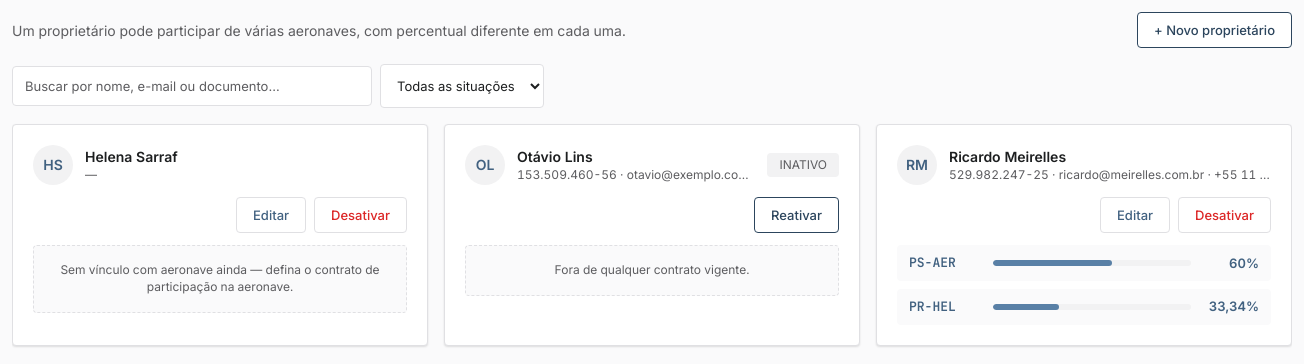
PaginaDeProprietarios › o filtro de situação recorta a lista sem nova requisição
This screenshot has width=1304, height=364.
Expected: the text "Ricardo Meirelles" is shown, [949, 148, 1066, 165]
Select "Inativos" in the dropdown named "Filtrar por situação" at (462, 86), box [380, 64, 544, 108]
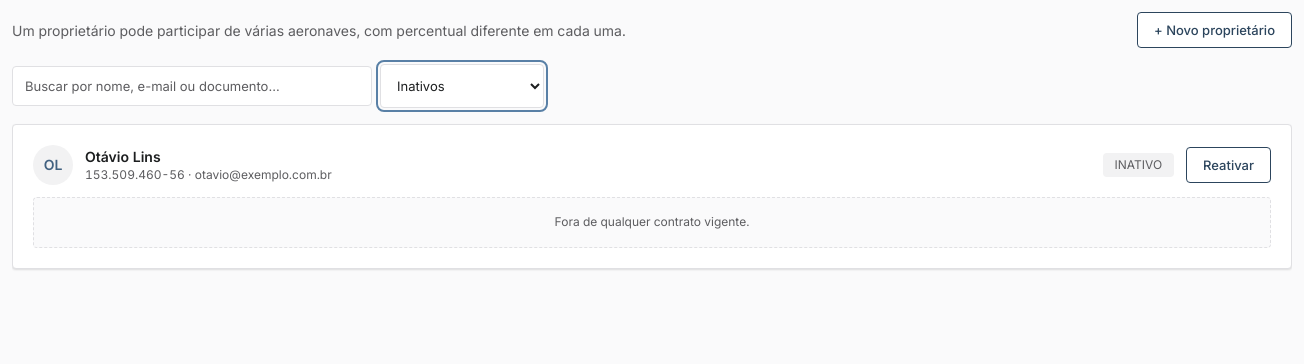
Expected: the text "Otávio Lins" is shown, [85, 148, 161, 165]
Expected: the text "Ricardo Meirelles" is gone
